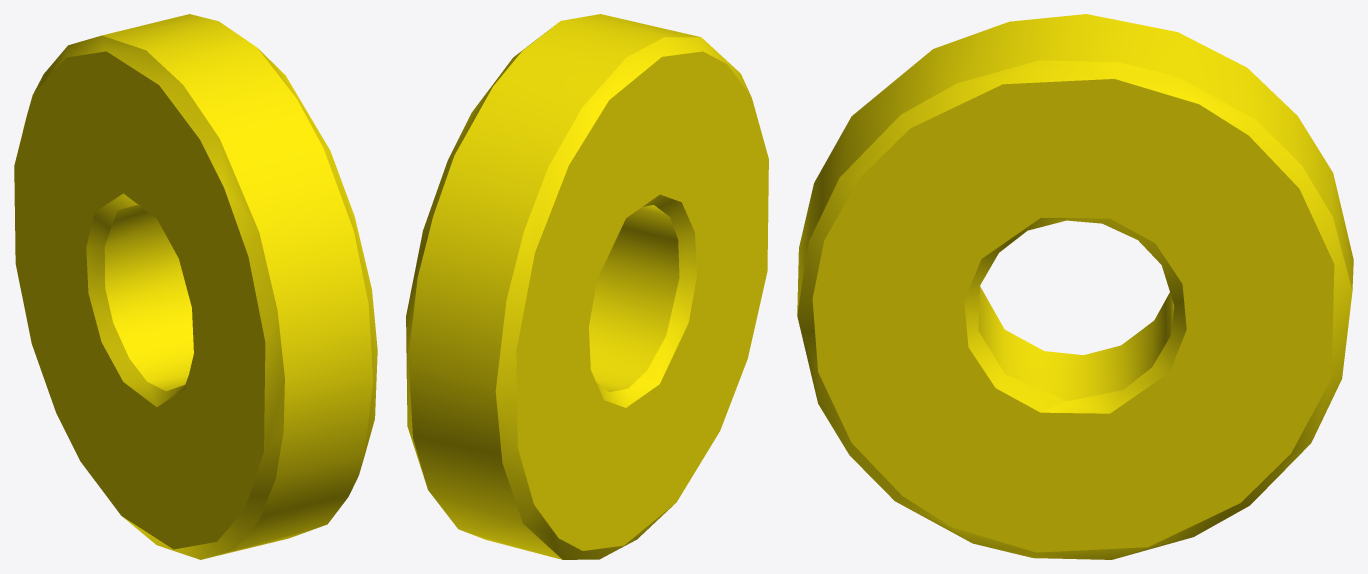
File: Probe.dae
3 renders of one model, left to right at view 1: azimuth 30°, elevation 25°; view 2: azimuth 150°, elevation 25°; view 3: azimuth 270°, elevation 25°, orthographic. The views are drawn at different scales.
Parts seen in each view (by area): view 1: Body1; view 2: Body1; view 3: Body1.
Boxes of the visible parts, x1,y1,x2,y2 form: Body1: [14, 14, 377, 559]; Body1: [406, 14, 768, 559]; Body1: [797, 14, 1353, 559].
Size of the model in its own units: 0.01 by 0.0423 by 0.0422.
